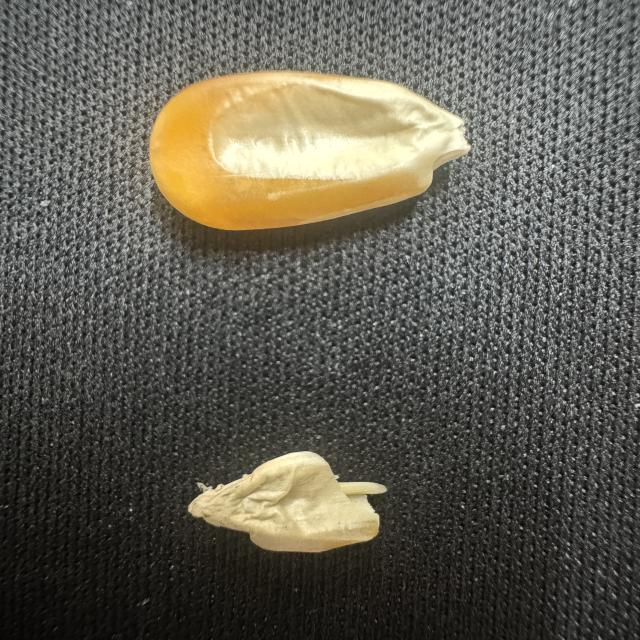Bad-Seed: (174, 448, 401, 558)
Good-Seed: (123, 64, 484, 236)
